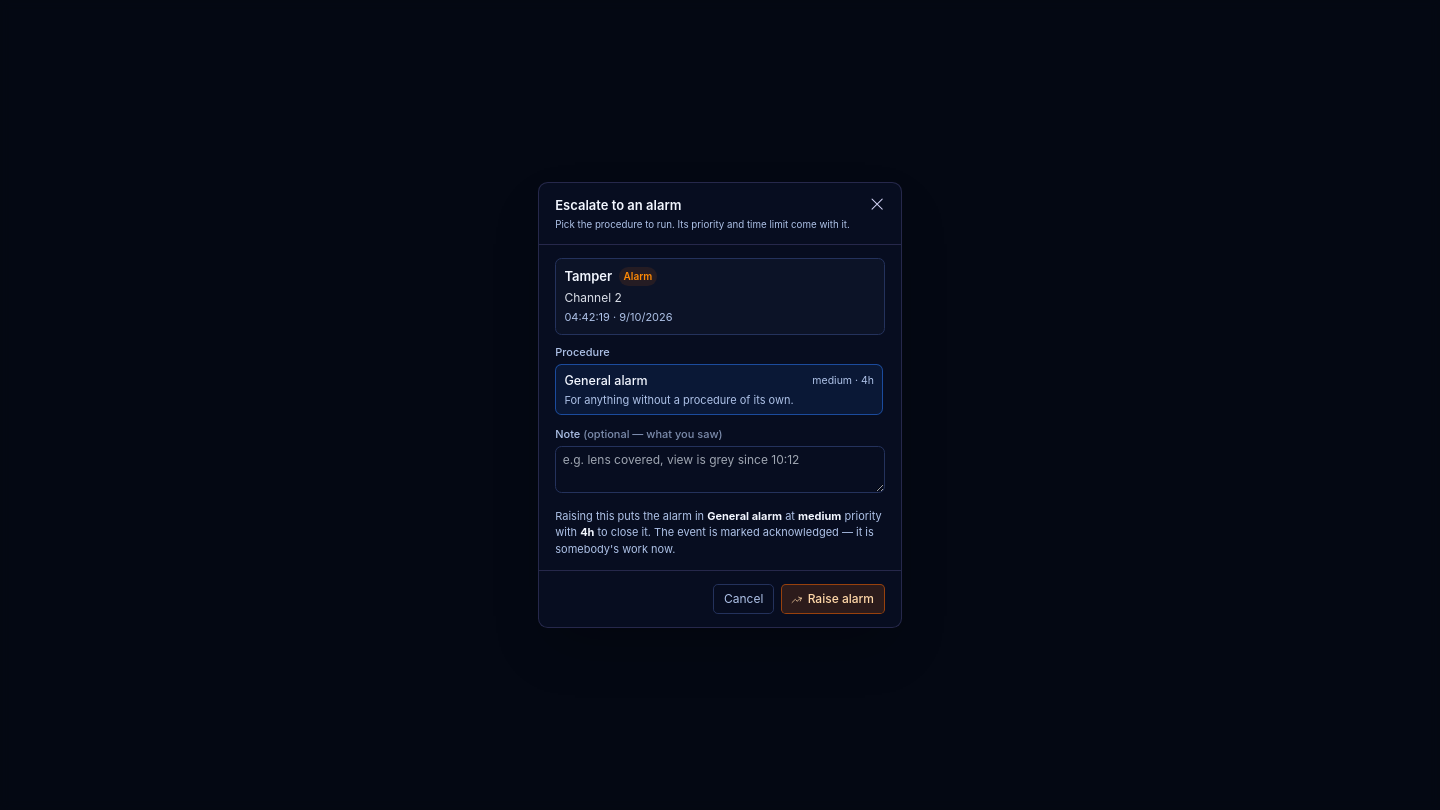
Test case: making it automatic › says so instead when a rule already covers this event
Check: the 1st text "General alarm" is shown, box [564, 371, 648, 390]
Click the button "Raise alarm" at [833, 599], box [781, 584, 885, 614]
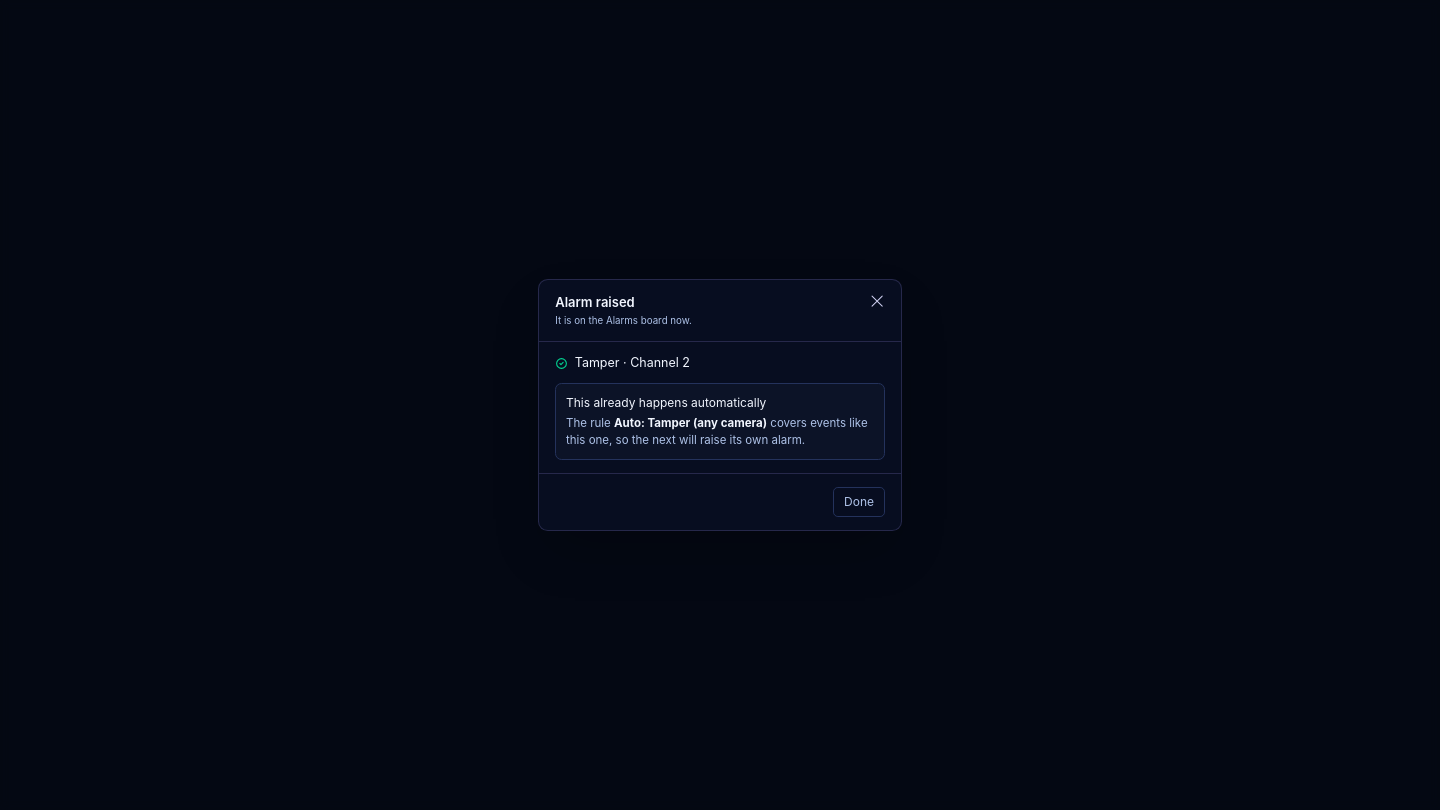
Check: the text "This already happens automatically" is shown, box [566, 395, 766, 410]
